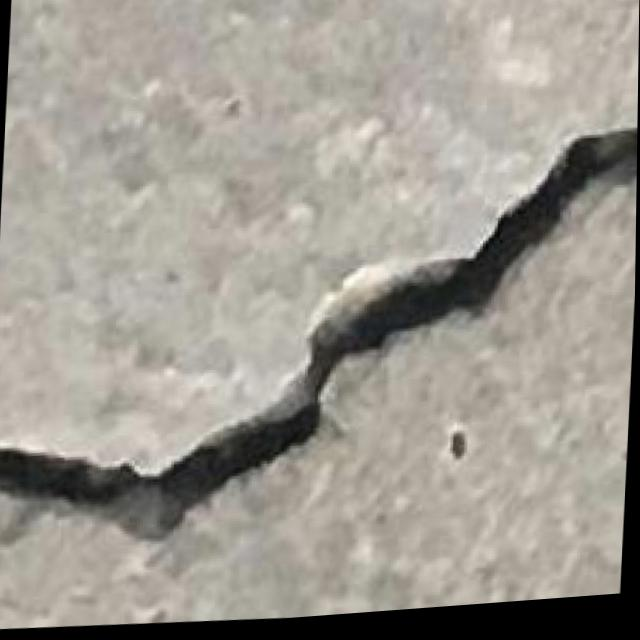Crack: (0, 96, 638, 583)
